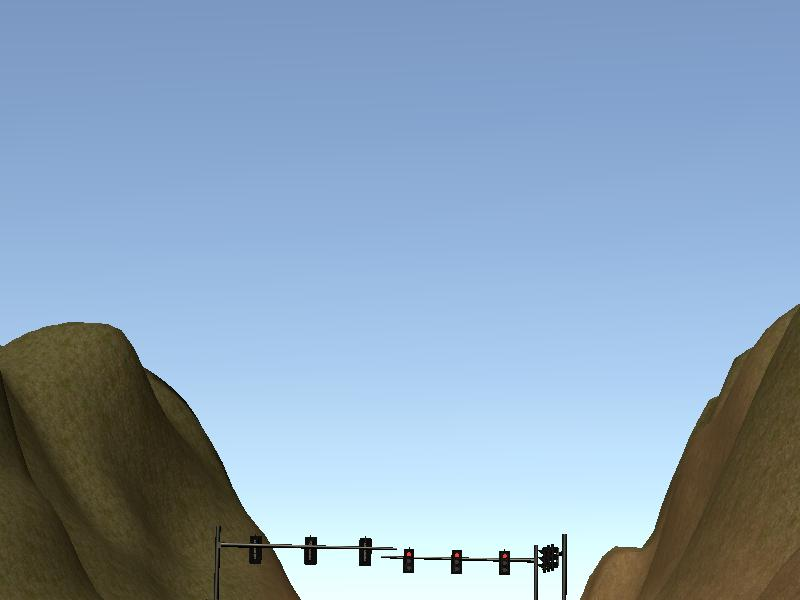Red: (498, 549, 510, 575), (450, 550, 462, 575), (403, 548, 412, 572)
